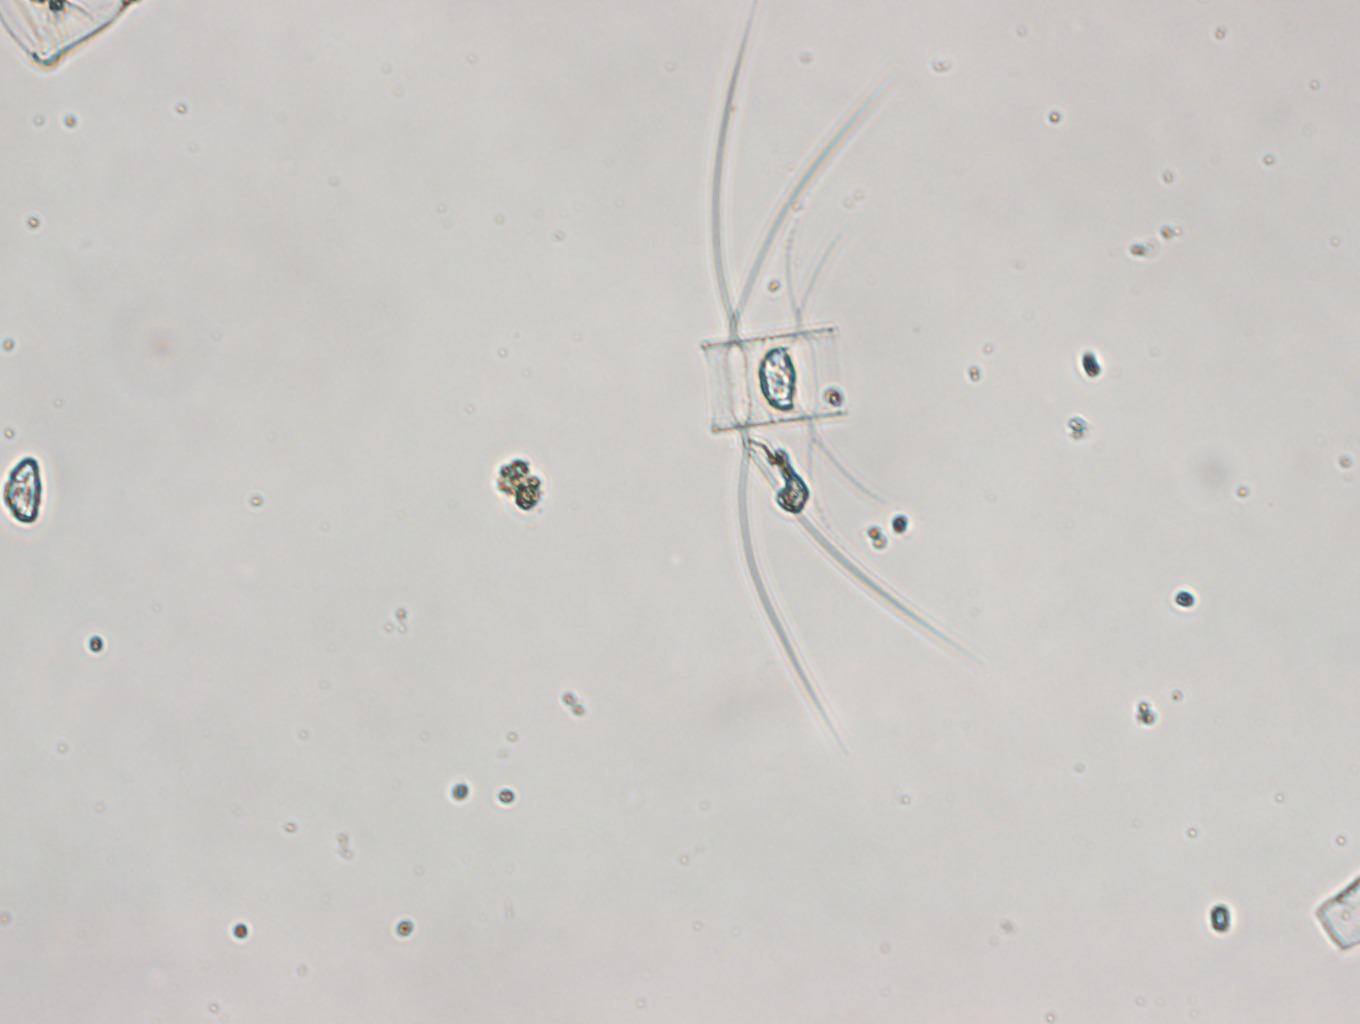chaetoceros: (700, 1, 980, 757)
